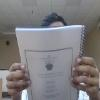notebook: (14, 24, 86, 99)
